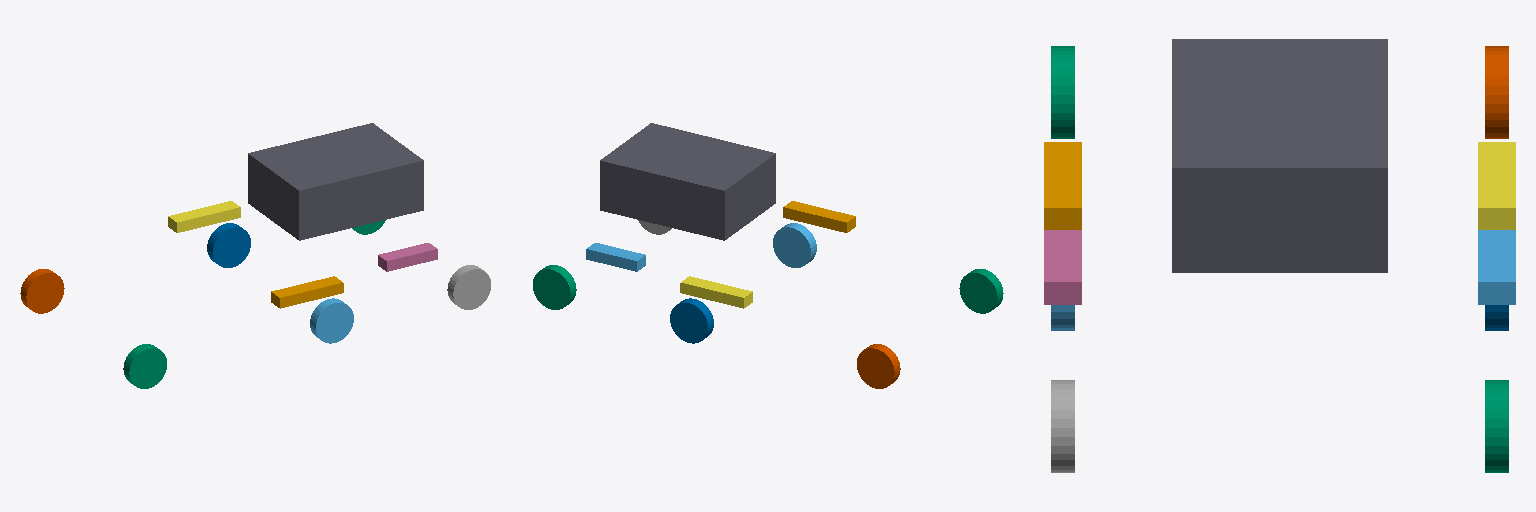
The robot description file, URDF, robot "rocker_bogie_bot_fixed":
<?xml version="1.0"?>
<robot name="rocker_bogie_bot_fixed">
  <gazebo reference="base_link">
    <pose>0 0 0.5 0 0 0</pose>
  </gazebo>
  <link name="base_link">
    <visual>
      <origin xyz="0 0 0.18" rpy="0 0 0"/>
      <geometry>
        <box size="0.49 0.35 0.1874"/>
      </geometry>
      <material name="steel">
        <color rgba="0.4 0.4 0.45 1"/>
      </material>
    </visual>
    <collision>
      <origin xyz="0 0 0.18"/>
      <geometry>
        <box size="0.49 0.35 0.1874"/>
      </geometry>
    </collision>
    <inertial>
      <origin xyz="0 0 0.18"/>
      <mass value="6.0"/>
      <inertia ixx="0.25" ixy="0.0" ixz="0.0" iyy="0.35" iyz="0.0" izz="0.45"/>
    </inertial>
  </link>
  <link name="left_rocker">
    <visual>
      <origin xyz="0.08 0.175 0.02" rpy="0 0 0"/>
      <geometry>
        <box size="0.2 0.06 0.04"/>
      </geometry>
    </visual>
    <collision>
      <origin xyz="0.08 0.175 0.02"/>
      <geometry>
        <box size="0.2 0.06 0.04"/>
      </geometry>
    </collision>
    <inertial>
      <origin xyz="0.08 0.175 0.02"/>
      <mass value="0.8"/>
      <inertia ixx="0.002" ixy="0" ixz="0" iyy="0.002" iyz="0" izz="0.003"/>
    </inertial>
  </link>
  <joint name="left_rocker_joint" type="revolute">
    <parent link="base_link"/>
    <child link="left_rocker"/>
    <origin xyz="0 0.175 0" rpy="0 0 0"/>
    <axis xyz="0 1 0"/>
    <limit lower="-1.5708" upper="1.5708" effort="50" velocity="1.0"/>
  </joint>
  <link name="left_front_wheel">
    <visual>
      <origin xyz="0.16117 0.175 -0.075" rpy="1.5708 0 0"/>
      <geometry>
        <cylinder length="0.04" radius="0.075"/>
      </geometry>
    </visual>
    <collision>
      <origin xyz="0.16117 0.175 -0.075" rpy="1.5708 0 0"/>
      <geometry>
        <cylinder length="0.04" radius="0.075"/>
      </geometry>
    </collision>
    <inertial>
      <origin xyz="0.16117 0.175 -0.075"/>
      <mass value="0.3"/>
      <inertia ixx="0.0006" ixy="0" ixz="0" iyy="0.0012" iyz="0" izz="0.0006"/>
    </inertial>
  </link>
  <joint name="left_front_wheel_joint" type="continuous">
    <parent link="left_rocker"/>
    <child link="left_front_wheel"/>
    <origin xyz="0.16117 0 -0.075" rpy="0 0 0"/>
    <axis xyz="0 1 0"/>
  </joint>
  <link name="left_bogie">
    <visual>
      <origin xyz="-0.12 0.175 -0.02" rpy="0 0 0"/>
      <geometry>
        <box size="0.25 0.06 0.04"/>
      </geometry>
    </visual>
    <collision>
      <origin xyz="-0.12 0.175 -0.02"/>
      <geometry>
        <box size="0.25 0.06 0.04"/>
      </geometry>
    </collision>
    <inertial>
      <origin xyz="-0.12 0.175 -0.02"/>
      <mass value="0.6"/>
      <inertia ixx="0.0015" ixy="0" ixz="0" iyy="0.0015" iyz="0" izz="0.002"/>
    </inertial>
  </link>
  <joint name="left_bogie_joint" type="revolute">
    <parent link="left_rocker"/>
    <child link="left_bogie"/>
    <origin xyz="-0.19452 0 0" rpy="0 0 0"/>
    <axis xyz="0 1 0"/>
    <limit lower="-1.5708" upper="1.5708" effort="50" velocity="1.0"/>
  </joint>
  <link name="left_middle_wheel">
    <visual>
      <origin xyz="-0.01133 0.175 -0.075" rpy="1.5708 0 0"/>
      <geometry>
        <cylinder length="0.04" radius="0.075"/>
      </geometry>
    </visual>
    <collision>
      <origin xyz="-0.01133 0.175 -0.075" rpy="1.5708 0 0"/>
      <geometry>
        <cylinder length="0.04" radius="0.075"/>
      </geometry>
    </collision>
    <inertial>
      <origin xyz="-0.01133 0.175 -0.075"/>
      <mass value="0.3"/>
      <inertia ixx="0.0006" ixy="0" ixz="0" iyy="0.0012" iyz="0" izz="0.0006"/>
    </inertial>
  </link>
  <joint name="left_middle_wheel_joint" type="continuous">
    <parent link="left_bogie"/>
    <child link="left_middle_wheel"/>
    <origin xyz="-0.01133 0 -0.075" rpy="0 0 0"/>
    <axis xyz="0 1 0"/>
  </joint>
  <link name="left_rear_wheel">
    <visual>
      <origin xyz="-0.37762 0.175 -0.075" rpy="1.5708 0 0"/>
      <geometry>
        <cylinder length="0.04" radius="0.075"/>
      </geometry>
    </visual>
    <collision>
      <origin xyz="-0.37762 0.175 -0.075" rpy="1.5708 0 0"/>
      <geometry>
        <cylinder length="0.04" radius="0.075"/>
      </geometry>
    </collision>
    <inertial>
      <origin xyz="-0.37762 0.175 -0.075"/>
      <mass value="0.3"/>
      <inertia ixx="0.0006" ixy="0" ixz="0" iyy="0.0012" iyz="0" izz="0.0006"/>
    </inertial>
  </link>
  <joint name="left_rear_wheel_joint" type="continuous">
    <parent link="left_bogie"/>
    <child link="left_rear_wheel"/>
    <origin xyz="-0.37762 0 -0.075" rpy="0 0 0"/>
    <axis xyz="0 1 0"/>
  </joint>
  <link name="right_rocker">
    <visual>
      <origin xyz="0.08 -0.175 0.02" rpy="0 0 0"/>
      <geometry>
        <box size="0.2 0.06 0.04"/>
      </geometry>
    </visual>
    <collision>
      <origin xyz="0.08 -0.175 0.02"/>
      <geometry>
        <box size="0.2 0.06 0.04"/>
      </geometry>
    </collision>
    <inertial>
      <origin xyz="0.08 -0.175 0.02"/>
      <mass value="0.8"/>
      <inertia ixx="0.002" ixy="0" ixz="0" iyy="0.002" iyz="0" izz="0.003"/>
    </inertial>
  </link>
  <joint name="right_rocker_joint" type="revolute">
    <parent link="base_link"/>
    <child link="right_rocker"/>
    <origin xyz="0 -0.175 0" rpy="0 0 0"/>
    <axis xyz="0 1 0"/>
    <limit lower="-1.5708" upper="1.5708" effort="50" velocity="1.0"/>
  </joint>
  <link name="right_front_wheel">
    <visual>
      <origin xyz="0.16117 -0.175 -0.075" rpy="1.5708 0 0"/>
      <geometry>
        <cylinder length="0.04" radius="0.075"/>
      </geometry>
    </visual>
    <collision>
      <origin xyz="0.16117 -0.175 -0.075" rpy="1.5708 0 0"/>
      <geometry>
        <cylinder length="0.04" radius="0.075"/>
      </geometry>
    </collision>
    <inertial>
      <origin xyz="0.16117 -0.175 -0.075"/>
      <mass value="0.3"/>
      <inertia ixx="0.0006" ixy="0" ixz="0" iyy="0.0012" iyz="0" izz="0.0006"/>
    </inertial>
  </link>
  <joint name="right_front_wheel_joint" type="continuous">
    <parent link="right_rocker"/>
    <child link="right_front_wheel"/>
    <origin xyz="0.16117 0 -0.075" rpy="0 0 0"/>
    <axis xyz="0 1 0"/>
  </joint>
  <link name="right_bogie">
    <visual>
      <origin xyz="-0.12 -0.175 -0.02" rpy="0 0 0"/>
      <geometry>
        <box size="0.25 0.06 0.04"/>
      </geometry>
    </visual>
    <collision>
      <origin xyz="-0.12 -0.175 -0.02"/>
      <geometry>
        <box size="0.25 0.06 0.04"/>
      </geometry>
    </collision>
    <inertial>
      <origin xyz="-0.12 -0.175 -0.02"/>
      <mass value="0.6"/>
      <inertia ixx="0.0015" ixy="0" ixz="0" iyy="0.0015" iyz="0" izz="0.002"/>
    </inertial>
  </link>
  <joint name="right_bogie_joint" type="revolute">
    <parent link="right_rocker"/>
    <child link="right_bogie"/>
    <origin xyz="-0.19452 0 0" rpy="0 0 0"/>
    <axis xyz="0 1 0"/>
    <limit lower="-1.5708" upper="1.5708" effort="50" velocity="1.0"/>
  </joint>
  <link name="right_middle_wheel">
    <visual>
      <origin xyz="-0.01133 -0.175 -0.075" rpy="1.5708 0 0"/>
      <geometry>
        <cylinder length="0.04" radius="0.075"/>
      </geometry>
    </visual>
    <collision>
      <origin xyz="-0.01133 -0.175 -0.075" rpy="1.5708 0 0"/>
      <geometry>
        <cylinder length="0.04" radius="0.075"/>
      </geometry>
    </collision>
    <inertial>
      <origin xyz="-0.01133 -0.175 -0.075"/>
      <mass value="0.3"/>
      <inertia ixx="0.0006" ixy="0" ixz="0" iyy="0.0012" iyz="0" izz="0.0006"/>
    </inertial>
  </link>
  <joint name="right_middle_wheel_joint" type="continuous">
    <parent link="right_bogie"/>
    <child link="right_middle_wheel"/>
    <origin xyz="-0.01133 0 -0.075" rpy="0 0 0"/>
    <axis xyz="0 1 0"/>
  </joint>
  <link name="right_rear_wheel">
    <visual>
      <origin xyz="-0.37762 -0.175 -0.075" rpy="1.5708 0 0"/>
      <geometry>
        <cylinder length="0.04" radius="0.075"/>
      </geometry>
    </visual>
    <collision>
      <origin xyz="-0.37762 -0.175 -0.075" rpy="1.5708 0 0"/>
      <geometry>
        <cylinder length="0.04" radius="0.075"/>
      </geometry>
    </collision>
    <inertial>
      <origin xyz="-0.37762 -0.175 -0.075"/>
      <mass value="0.3"/>
      <inertia ixx="0.0006" ixy="0" ixz="0" iyy="0.0012" iyz="0" izz="0.0006"/>
    </inertial>
  </link>
  <joint name="right_rear_wheel_joint" type="continuous">
    <parent link="right_bogie"/>
    <child link="right_rear_wheel"/>
    <origin xyz="-0.37762 0 -0.075" rpy="0 0 0"/>
    <axis xyz="0 1 0"/>
  </joint>
  <link name="imu_link">
    <visual>
      <origin xyz="0 0 0.08"/>
      <geometry>
        <sphere radius="0.02"/>
      </geometry>
    </visual>
    <inertial>
      <origin xyz="0 0 0.08"/>
      <mass value="0.01"/>
      <inertia ixx="0.00001" ixy="0" ixz="0" iyy="0.00001" iyz="0" izz="0.00001"/>
    </inertial>
  </link>
  <joint name="imu_joint" type="fixed">
    <parent link="base_link"/>
    <child link="imu_link"/>
    <origin xyz="0 0 0.08"/>
  </joint>
</robot>

--- Render facts (derived) ---
The picture shows the robot from 3 angles, left to right: view 1: azimuth 30°, elevation 25°; view 2: azimuth 150°, elevation 25°; view 3: azimuth 270°, elevation 25°; orthographic projection.
Model rocker_bogie_bot_fixed with 12 links and 11 joints (4 revolute, 6 continuous, 1 fixed), rooted at base_link, posed every joint at zero.
Links seen in each view (by area): view 1: base_link, left_middle_wheel, right_middle_wheel, right_front_wheel, right_rear_wheel, left_rear_wheel, left_bogie, right_bogie, right_rocker; view 2: base_link, right_middle_wheel, left_middle_wheel, left_front_wheel, left_rear_wheel, right_rear_wheel, right_bogie, left_bogie, left_rocker; view 3: base_link, left_bogie, right_bogie, left_rocker, right_rocker, left_front_wheel, left_rear_wheel, right_front_wheel, right_rear_wheel, left_middle_wheel, right_middle_wheel.
Boxes of the visible links, x1=… form: base_link: x1=248, y1=123, x2=423, y2=240; left_middle_wheel: x1=207, y1=223, x2=250, y2=267; right_middle_wheel: x1=310, y1=298, x2=353, y2=343; right_front_wheel: x1=447, y1=265, x2=490, y2=309; right_rear_wheel: x1=123, y1=344, x2=166, y2=388; left_rear_wheel: x1=20, y1=269, x2=64, y2=313; left_bogie: x1=168, y1=201, x2=240, y2=232; right_bogie: x1=271, y1=276, x2=343, y2=308; right_rocker: x1=378, y1=243, x2=437, y2=271; base_link: x1=600, y1=123, x2=775, y2=240; right_middle_wheel: x1=773, y1=223, x2=816, y2=267; left_middle_wheel: x1=670, y1=298, x2=713, y2=343; left_front_wheel: x1=533, y1=265, x2=576, y2=309; left_rear_wheel: x1=857, y1=344, x2=900, y2=388; right_rear_wheel: x1=959, y1=269, x2=1003, y2=313; right_bogie: x1=783, y1=201, x2=855, y2=232; left_bogie: x1=680, y1=276, x2=752, y2=308; left_rocker: x1=586, y1=243, x2=645, y2=271; base_link: x1=1172, y1=39, x2=1387, y2=272; left_bogie: x1=1478, y1=142, x2=1515, y2=229; right_bogie: x1=1044, y1=142, x2=1081, y2=229; left_rocker: x1=1478, y1=230, x2=1515, y2=304; right_rocker: x1=1044, y1=230, x2=1081, y2=304; left_front_wheel: x1=1485, y1=380, x2=1508, y2=472; left_rear_wheel: x1=1485, y1=46, x2=1508, y2=138; right_front_wheel: x1=1051, y1=380, x2=1074, y2=472; right_rear_wheel: x1=1051, y1=46, x2=1074, y2=138; left_middle_wheel: x1=1485, y1=305, x2=1508, y2=330; right_middle_wheel: x1=1051, y1=305, x2=1074, y2=330.
Bounding box of the posed robot: 1.42 × 0.76 × 0.4987 m (x, y, z).
Geometry: primitives only (box / cylinder / sphere), no mesh files.